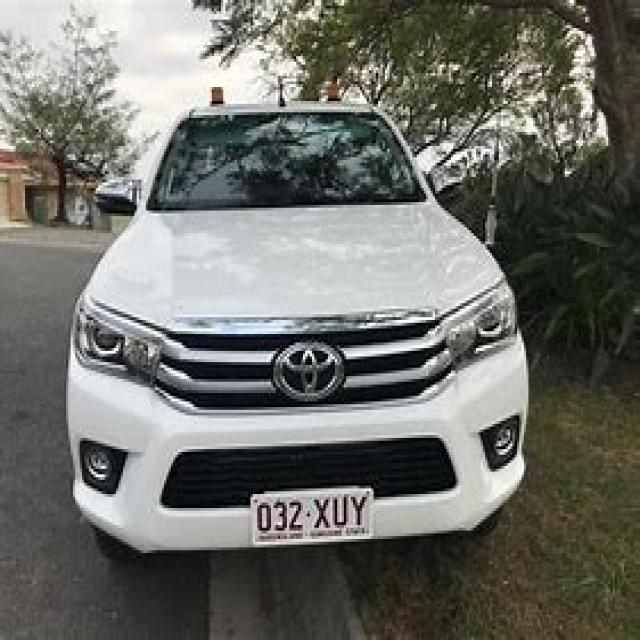light_vehicle: (57, 67, 542, 573)
